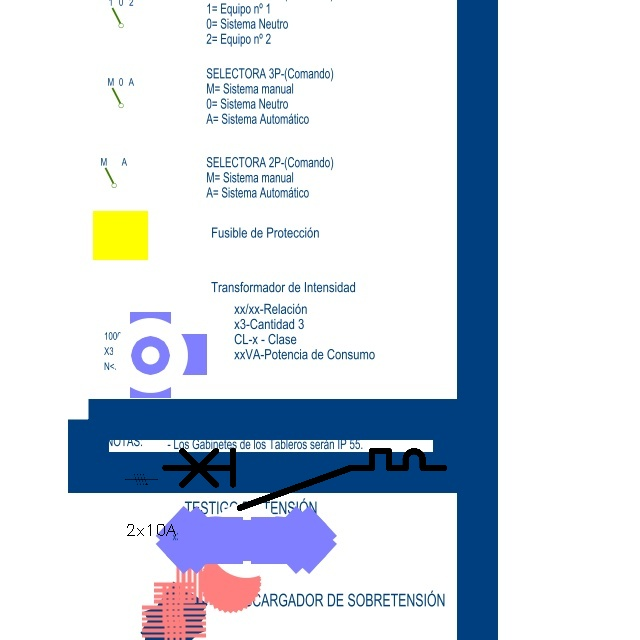interruptor_termomagnetico: (158, 444, 451, 515)
